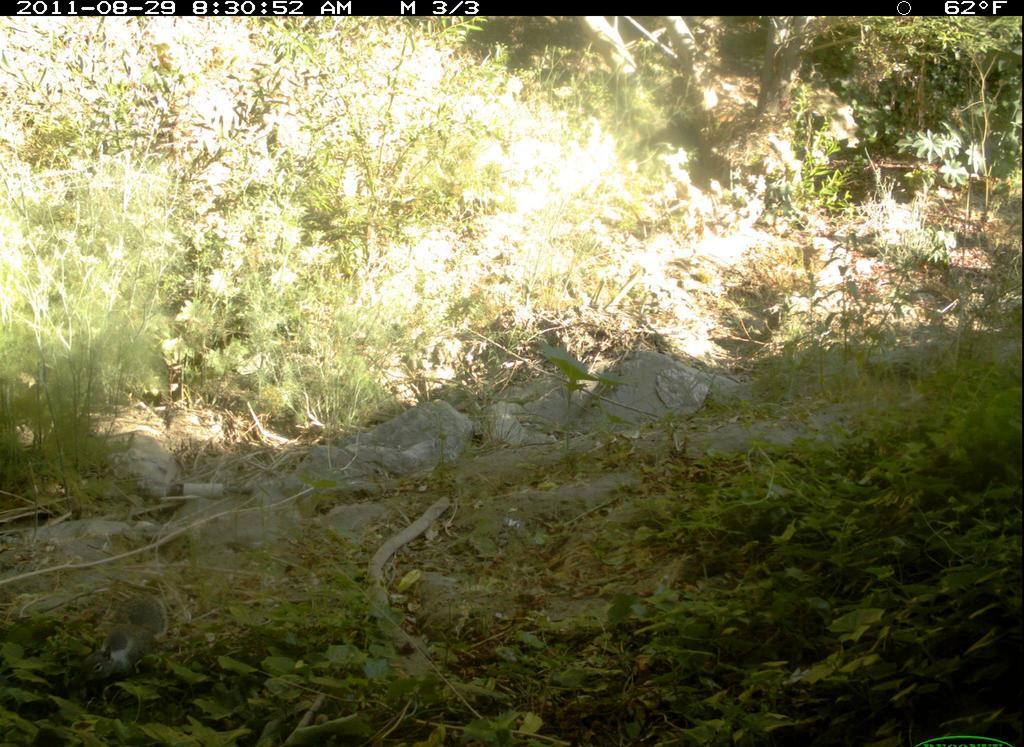squirrel: (70, 591, 185, 693)
